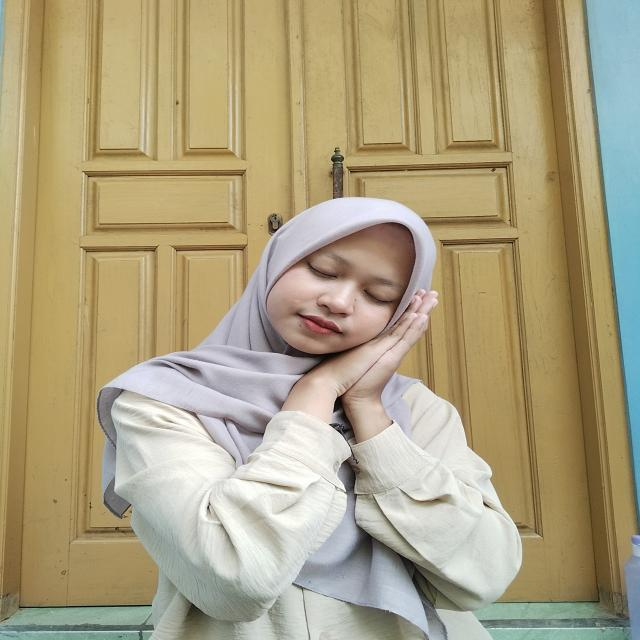tidur: (266, 291, 439, 447)
